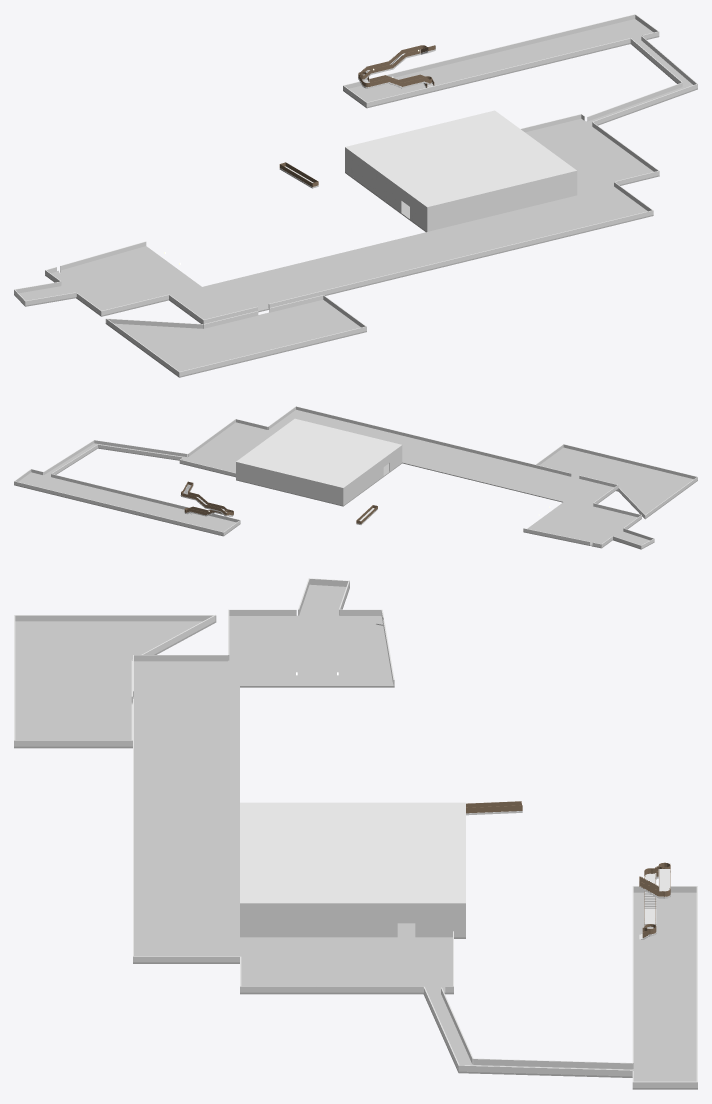
The picture shows the model from 3 angles, top to bottom: view 1: azimuth 30°, elevation 25°; view 2: azimuth 150°, elevation 25°; view 3: azimuth 270°, elevation 25°; orthographic projection. The views are drawn at different scales.
Visible parts, largest first — view 1: ground_floor_stone_floor, ground_wall_basalt, ground_ceiling_rock_ceiling, ground_wall_plaster, ground_rail_rail, ground_stair_wood; view 2: ground_floor_stone_floor, ground_wall_basalt, ground_ceiling_rock_ceiling, ground_wall_plaster, ground_rail_rail, ground_stair_wood; view 3: ground_floor_stone_floor, ground_ceiling_rock_ceiling, ground_wall_basalt, ground_wall_plaster, ground_rail_rail, ground_stair_wood.
Part boxes in pixels (x1,y1,x2,y2): ground_floor_stone_floor: (14,19,697,377); ground_wall_basalt: (14,14,697,376); ground_ceiling_rock_ceiling: (345,110,577,208); ground_wall_plaster: (345,148,577,231); ground_rail_rail: (279,45,435,187); ground_stair_wood: (279,49,435,188); ground_floor_stone_floor: (14,409,697,549); ground_wall_basalt: (14,406,697,548); ground_ceiling_rock_ceiling: (236,418,402,488); ground_wall_plaster: (236,446,402,505); ground_rail_rail: (181,481,377,523); ground_stair_wood: (180,484,377,524); ground_floor_stone_floor: (14,584,697,1089); ground_ceiling_rock_ceiling: (240,802,465,904); ground_wall_basalt: (14,578,697,1087); ground_wall_plaster: (240,905,465,937); ground_rail_rail: (466,801,670,937); ground_stair_wood: (466,811,670,939).
Bounding box in the file's own units: 200 × 12.13 × 115.
